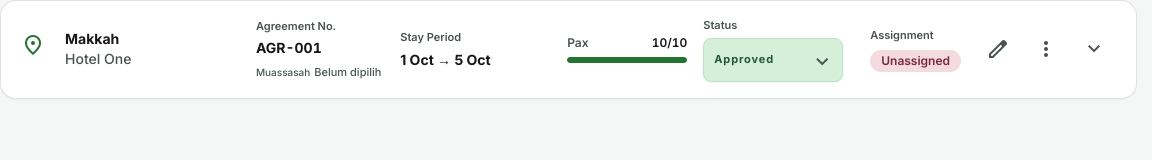
Test: AgreementDraftTable › keeps deletion disabled while a delete request is pending
This screenshot has width=1152, height=160.
Click the button named "Tindakan lain untuk agreement AGR-001" at (1046, 49), box [1024, 27, 1068, 71]
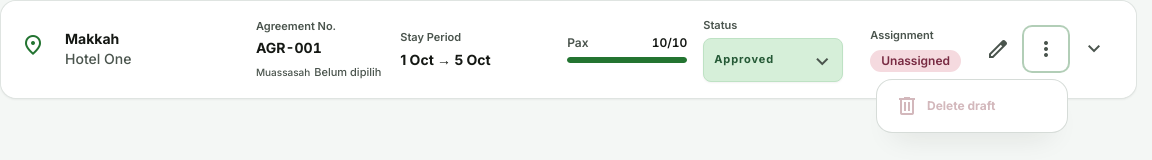
Check: the button "Delete draft" is disabled, box [883, 86, 1061, 126]
